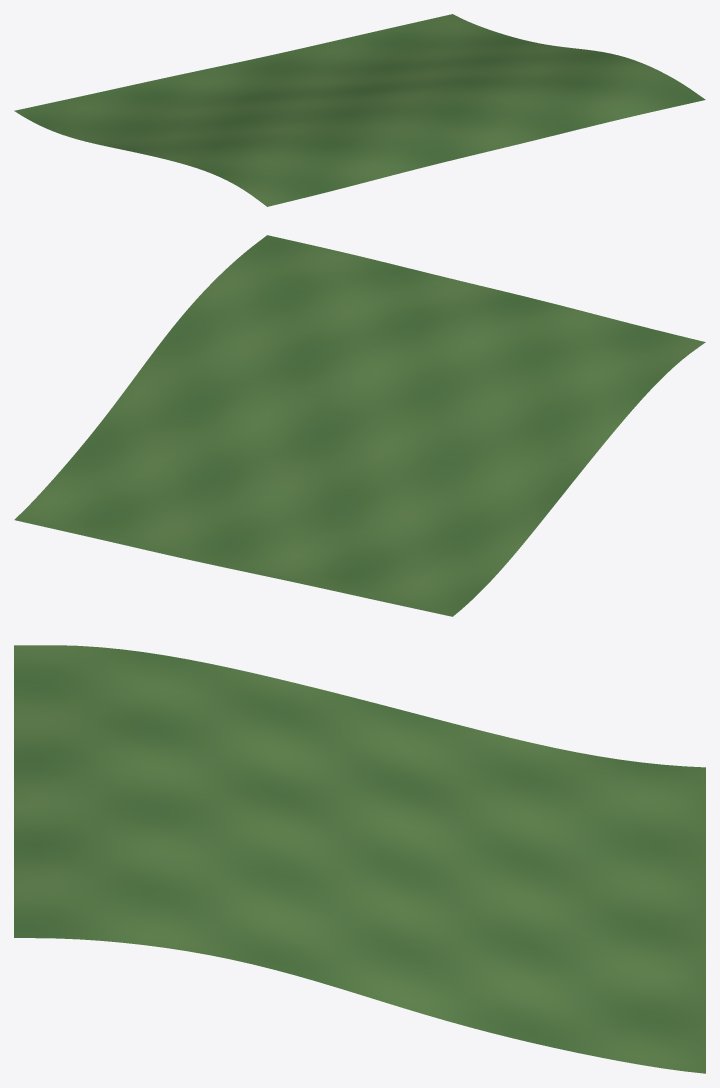
File: chunk_6_12.glb
3 views of the same model, one above another, from view 1: azimuth 30°, elevation 25°; view 2: azimuth 150°, elevation 25°; view 3: azimuth 270°, elevation 25° (orthographic). The views are drawn at different scales.
Size of the model in its own units: 512 by 114 by 512.
